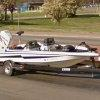Boat: (4, 32, 96, 78)
